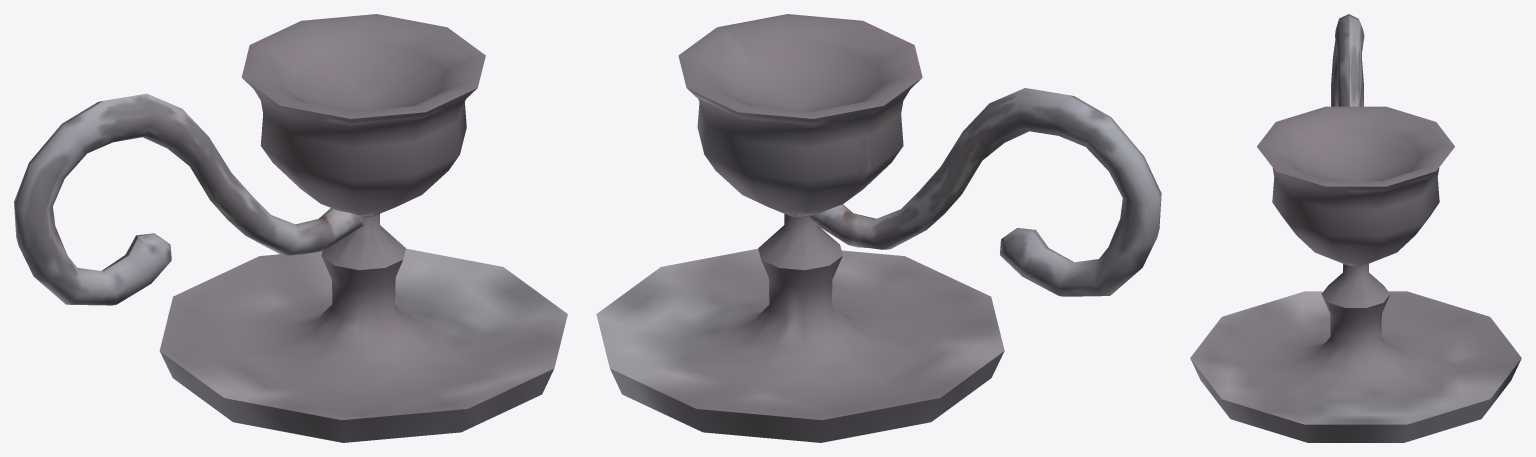
Rendered from CandleStick.glb.
3 renders of one model, left to right at view 1: azimuth 30°, elevation 25°; view 2: azimuth 150°, elevation 25°; view 3: azimuth 270°, elevation 25°, orthographic. The views are drawn at different scales.
Parts seen in each view (by area): view 1: CandleStick; view 2: CandleStick; view 3: CandleStick.
Boxes of the visible parts, <box> form: CandleStick: <box>14,14,567,442</box>; CandleStick: <box>596,14,1161,442</box>; CandleStick: <box>1190,14,1521,442</box>.
Bounding box in the file's own units: 0.2609 × 0.1552 × 0.1793.
1 material, 1 textured.
